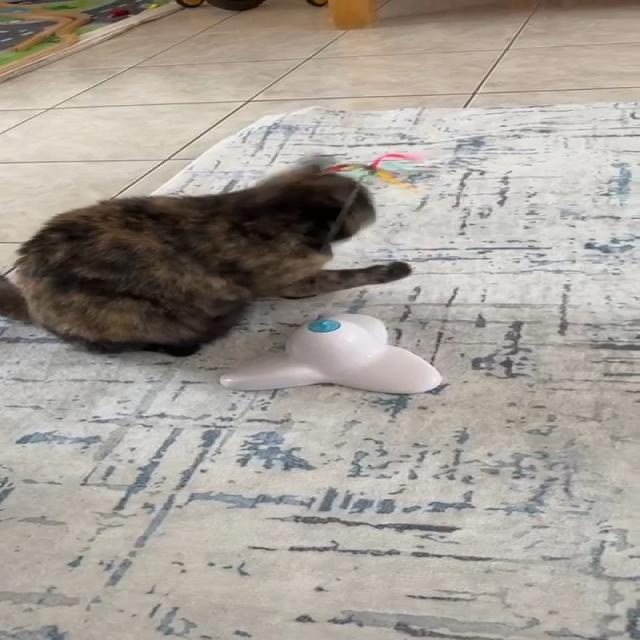authorized: (0, 153, 412, 357)
